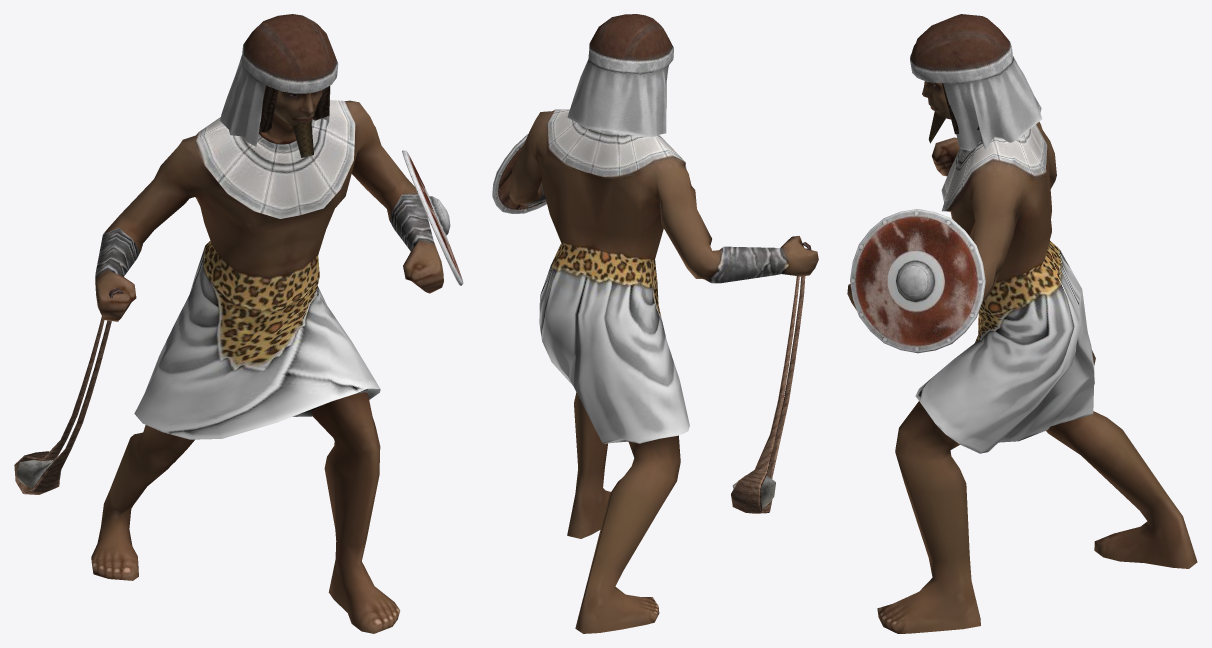
The model's file is 9-slinger.glb.
3 renders of one model, left to right at view 1: azimuth 30°, elevation 25°; view 2: azimuth 150°, elevation 25°; view 3: azimuth 270°, elevation 25°, orthographic. The views are drawn at different scales.
Size of the model in its own units: 1.26 by 1.93 by 1.06.
Materials: 4 (4 with a texture image).
